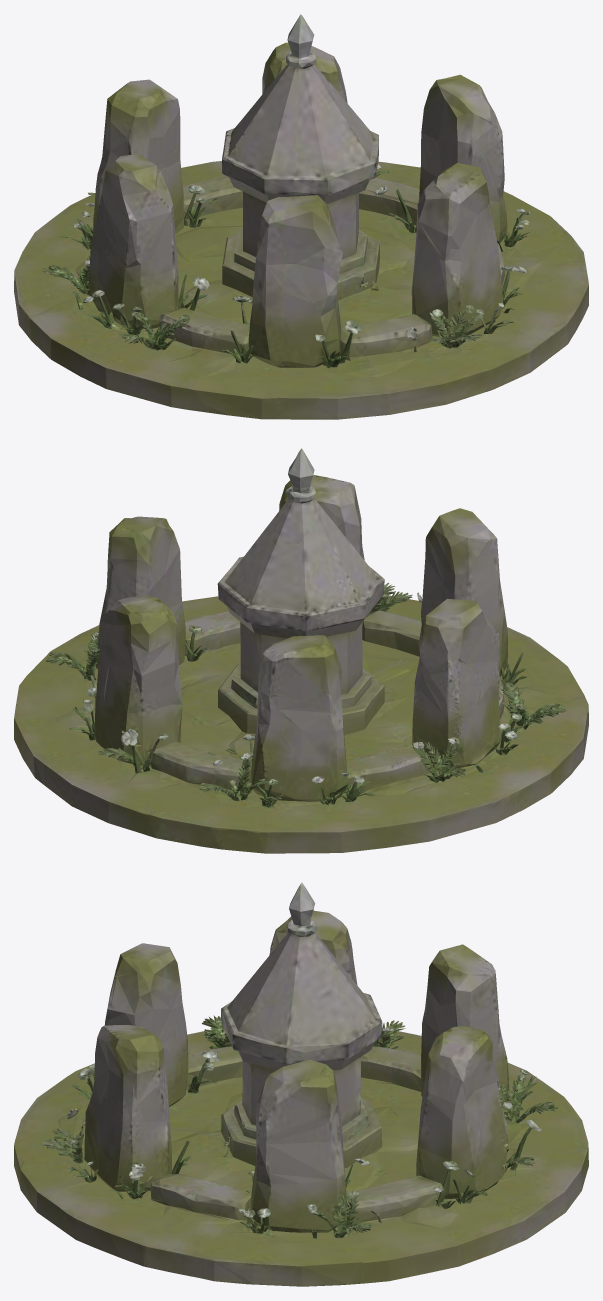
File: sanctuary_t1.glb
The picture shows the model from 3 angles, top to bottom: view 1: azimuth 30°, elevation 25°; view 2: azimuth 150°, elevation 25°; view 3: azimuth 270°, elevation 25°; orthographic projection.
Visible parts, largest first — view 1: tripo_node_d9b426e2-47fe-48ec-a59c-022e92ba9000; view 2: tripo_node_d9b426e2-47fe-48ec-a59c-022e92ba9000; view 3: tripo_node_d9b426e2-47fe-48ec-a59c-022e92ba9000.
Boxes of the visible parts, x1,y1,x2,y2 form: tripo_node_d9b426e2-47fe-48ec-a59c-022e92ba9000: [14, 14, 588, 419]; tripo_node_d9b426e2-47fe-48ec-a59c-022e92ba9000: [14, 448, 588, 853]; tripo_node_d9b426e2-47fe-48ec-a59c-022e92ba9000: [14, 882, 588, 1286].
Size of the model in its own units: 0.9786 by 0.5324 by 0.9796.
Materials: 1 (1 with a texture image).
